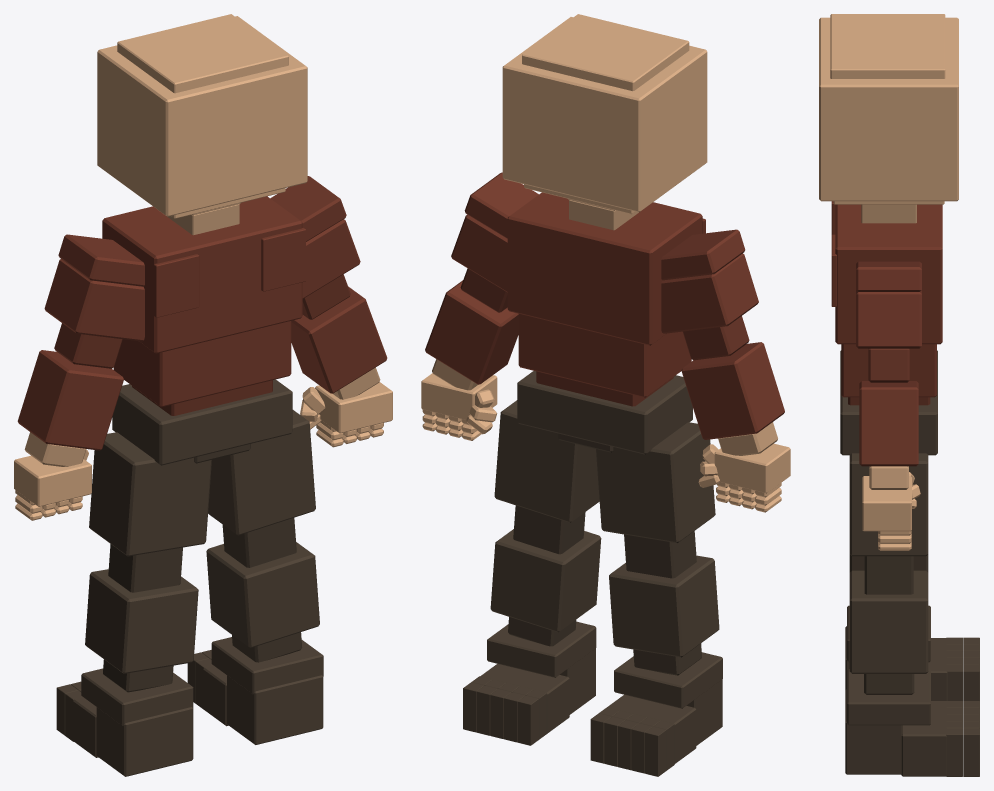
The model's file is npc_macaco_vigia.glb.
The picture shows the model from 3 angles, left to right: view 1: azimuth 30°, elevation 25°; view 2: azimuth 150°, elevation 25°; view 3: azimuth 270°, elevation 25°; orthographic projection. The views are drawn at different scales.
Parts seen in each view (by area): view 1: Geo_Head_Runtime, Geo_Chest_Runtime, Geo_Thigh_L_Runtime, Geo_Abdomen_Runtime, Geo_Shin_L_Runtime, Geo_Pelvis_Runtime, Geo_Shin_R_Runtime, Geo_Thigh_R_Runtime, Geo_HeadTop_Runtime, Geo_ForeArm_L_Runtime, Geo_ForeArm_R_Runtime, Geo_UpperArm_L_Runtime (+23 smaller); view 2: Geo_Head_Runtime, Geo_Chest_Runtime, Geo_Thigh_L_Runtime, Geo_Abdomen_Runtime, Geo_Shin_L_Runtime, Geo_Pelvis_Runtime, Geo_Shin_R_Runtime, Geo_Thigh_R_Runtime, Geo_HeadTop_Runtime, Geo_ForeArm_L_Runtime, Geo_ForeArm_R_Runtime, Geo_UpperArm_L_Runtime (+31 smaller); view 3: Geo_Head_Runtime, Geo_Chest_Runtime, Geo_HeadTop_Runtime, Geo_Shin_R_Runtime, Geo_ForeArm_R_Runtime, Geo_UpperArm_R_Runtime, Geo_Thigh_R_Runtime, Geo_AnkleCuff_R_Runtime, Geo_Heel_R_Runtime, Geo_Foot_R_Runtime, Geo_Abdomen_Runtime, Geo_Pelvis_Runtime (+17 smaller).
Boxes of the visible parts, x1,y1,x2,y2 form: Geo_Head_Runtime: (97,16,307,216); Geo_Chest_Runtime: (102,196,302,353); Geo_Thigh_L_Runtime: (89,432,211,556); Geo_Abdomen_Runtime: (113,321,291,407); Geo_Shin_L_Runtime: (85,569,198,673); Geo_Pelvis_Runtime: (112,379,292,465); Geo_Shin_R_Runtime: (206,542,319,647); Geo_Thigh_R_Runtime: (208,410,315,535); Geo_HeadTop_Runtime: (117,14,288,93); Geo_ForeArm_L_Runtime: (17,350,123,450); Geo_ForeArm_R_Runtime: (291,286,387,393); Geo_UpperArm_L_Runtime: (44,259,144,341); Geo_Head_Runtime: (502,17,707,212); Geo_Chest_Runtime: (507,192,702,345); Geo_Thigh_L_Runtime: (596,422,715,543); Geo_Abdomen_Runtime: (518,314,691,397); Geo_Shin_L_Runtime: (609,555,719,657); Geo_Pelvis_Runtime: (517,371,692,454); Geo_Shin_R_Runtime: (490,529,601,632); Geo_Thigh_R_Runtime: (494,400,599,522); Geo_HeadTop_Runtime: (522,14,689,91); Geo_ForeArm_L_Runtime: (681,342,784,439); Geo_ForeArm_R_Runtime: (425,280,518,384); Geo_UpperArm_L_Runtime: (661,253,758,333); Geo_Head_Runtime: (819,17,958,201); Geo_Chest_Runtime: (835,204,942,344); Geo_HeadTop_Runtime: (830,14,945,78); Geo_Shin_R_Runtime: (849,570,928,673); Geo_ForeArm_R_Runtime: (859,381,918,466); Geo_UpperArm_R_Runtime: (856,290,921,348); Geo_Thigh_R_Runtime: (849,453,928,556); Geo_AnkleCuff_R_Runtime: (847,669,930,725); Geo_Heel_R_Runtime: (845,689,902,774); Geo_Foot_R_Runtime: (901,701,946,776); Geo_Abdomen_Runtime: (841,344,936,397); Geo_Pelvis_Runtime: (840,350,937,455).
Size of the model in its own units: 1.07 by 1.98 by 0.4192.
